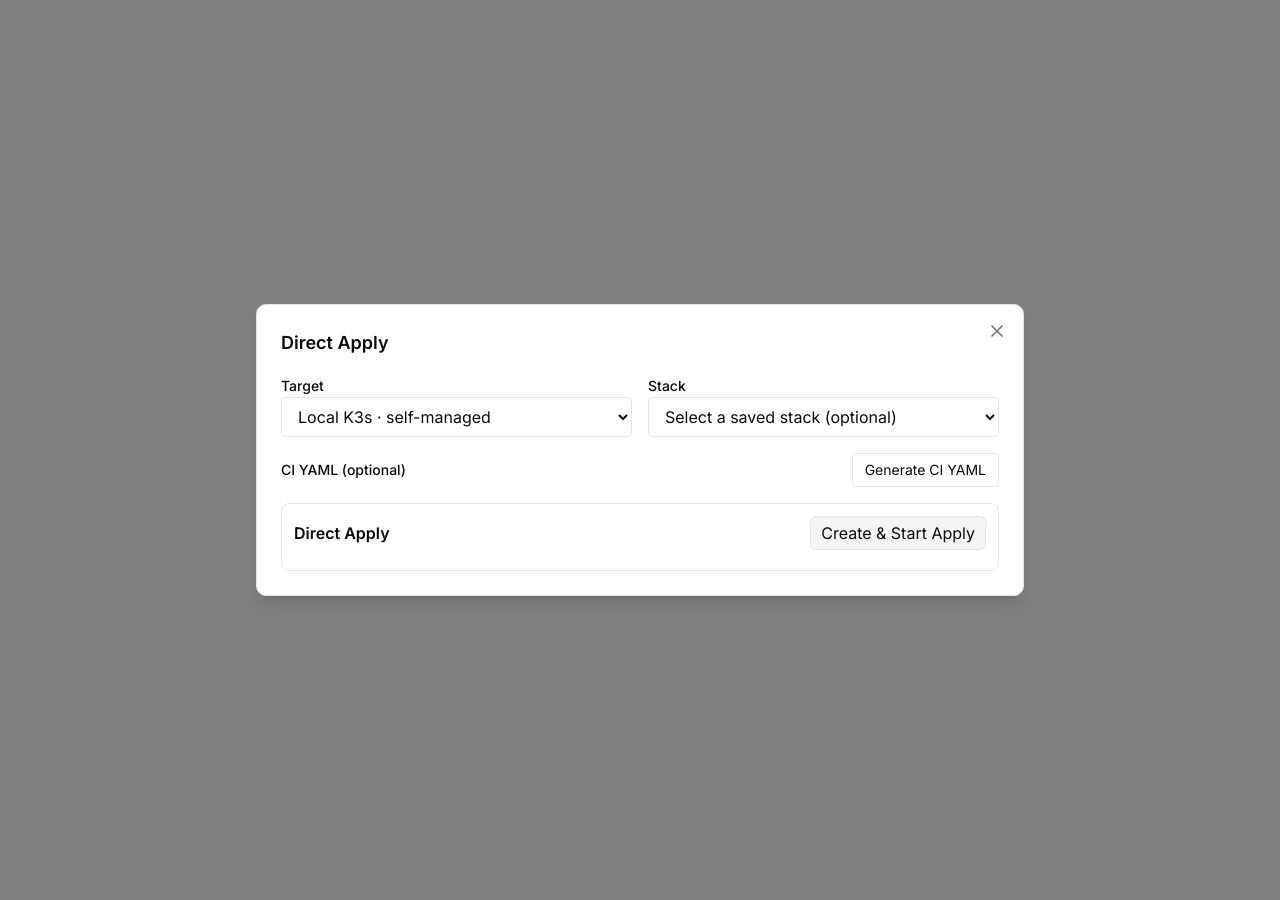
Test case: ApplyModal › renders CI YAML via renderApplyCi and shows it
// Open CI panel and render
Click the button with test id "apply-toggle-ci". click: (925, 470)
box: [852,453,999,487]
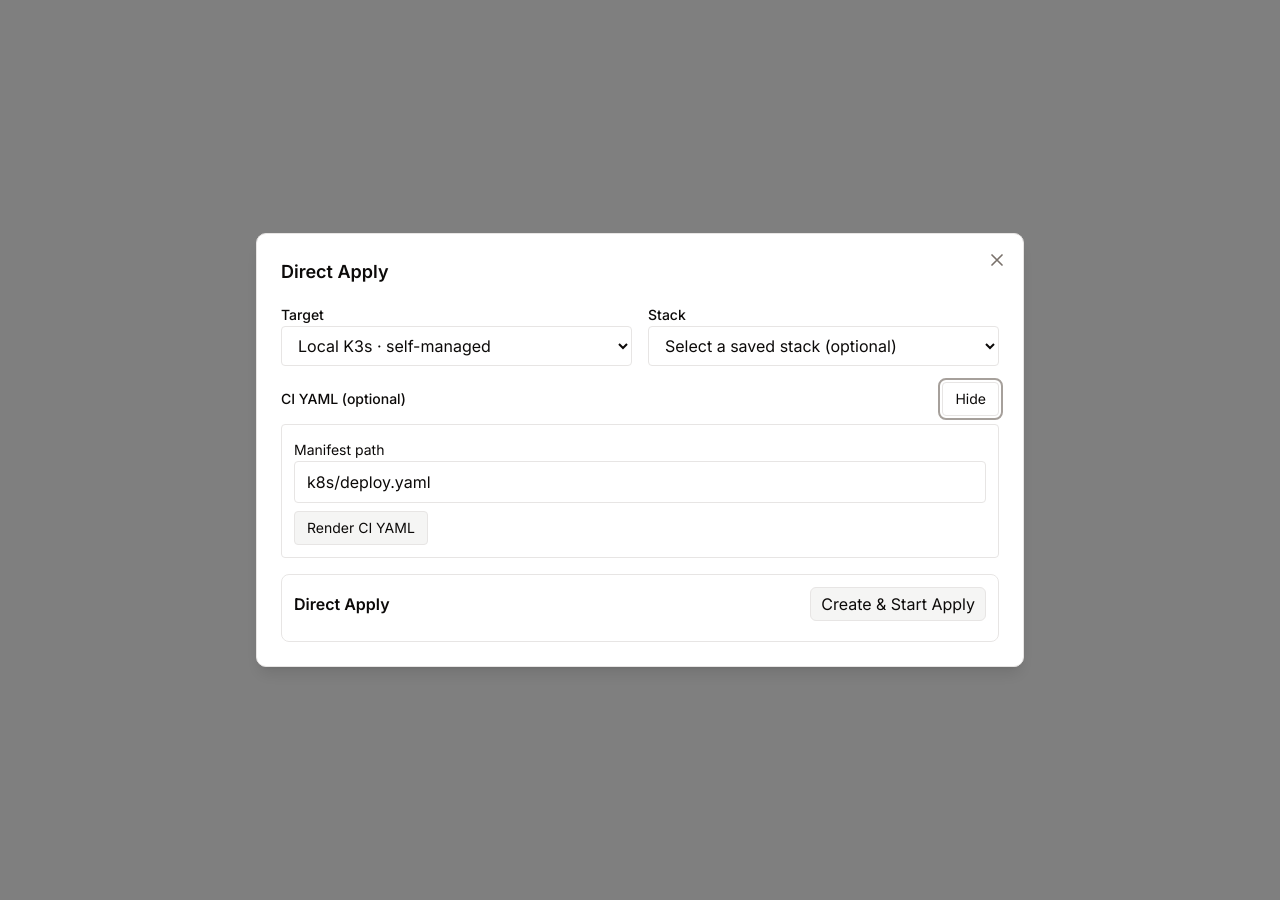
Click the button with test id "apply-render-ci". click: (361, 528)
box: [294,511,428,545]
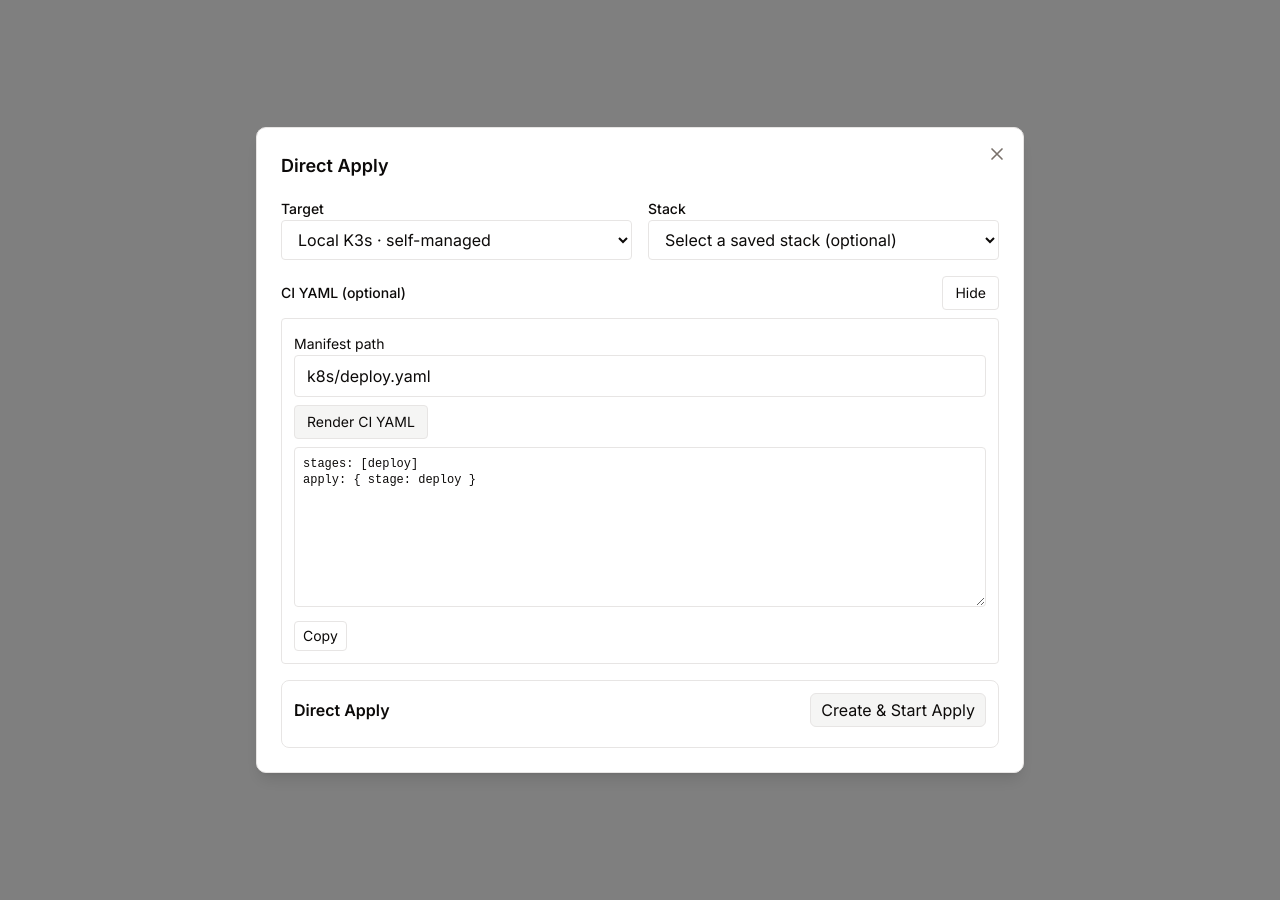
Check: the text box with test id "apply-ci-yaml" is shown, box [294,447,986,607]
